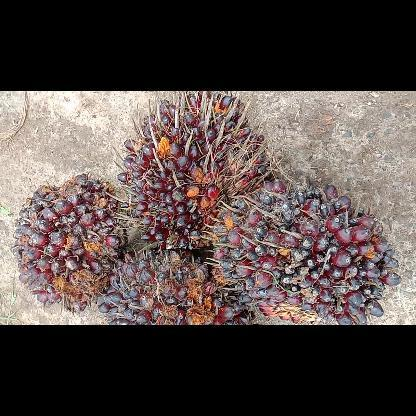Kurang masak: (205, 176, 405, 324), (114, 91, 274, 255), (7, 170, 128, 318), (99, 244, 260, 324)
